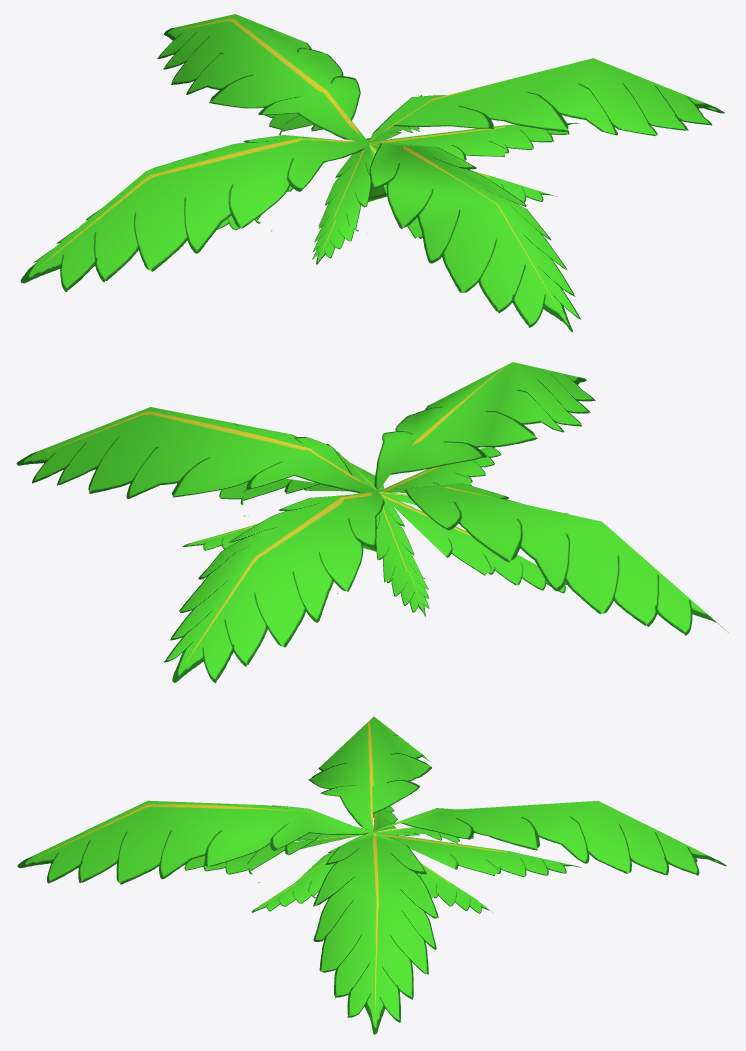
File: Fougere.fbx
3 views of the same model, one above another, from view 1: azimuth 30°, elevation 25°; view 2: azimuth 150°, elevation 25°; view 3: azimuth 270°, elevation 25° (orthographic). The views are drawn at different scales.
Parts seen in each view (by area): view 1: Fougere; view 2: Fougere; view 3: Fougere.
Part boxes in pixels (x1=…): Fougere: x1=20, y1=14, x2=724, y2=332; Fougere: x1=16, y1=362, x2=728, y2=683; Fougere: x1=17, y1=716, x2=726, y2=1034.
Bounding box in the file's own units: 371 × 51.65 × 371.
